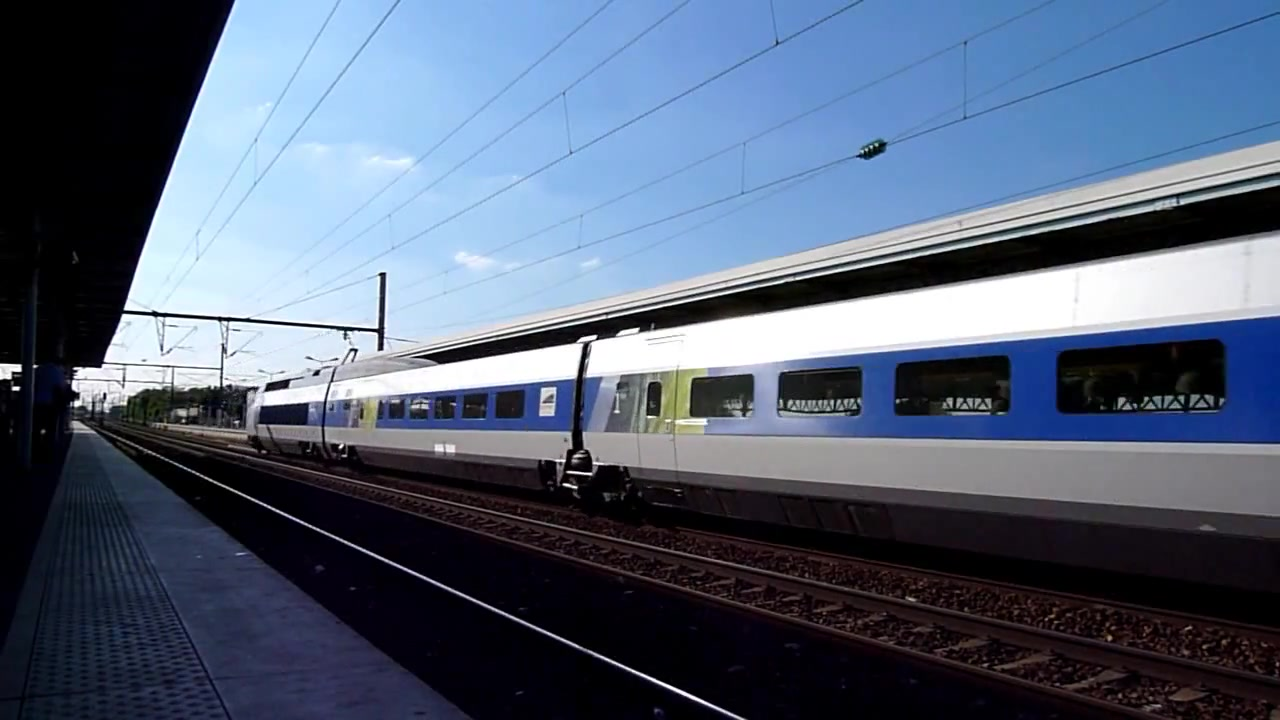train: (241, 135, 1280, 578)
